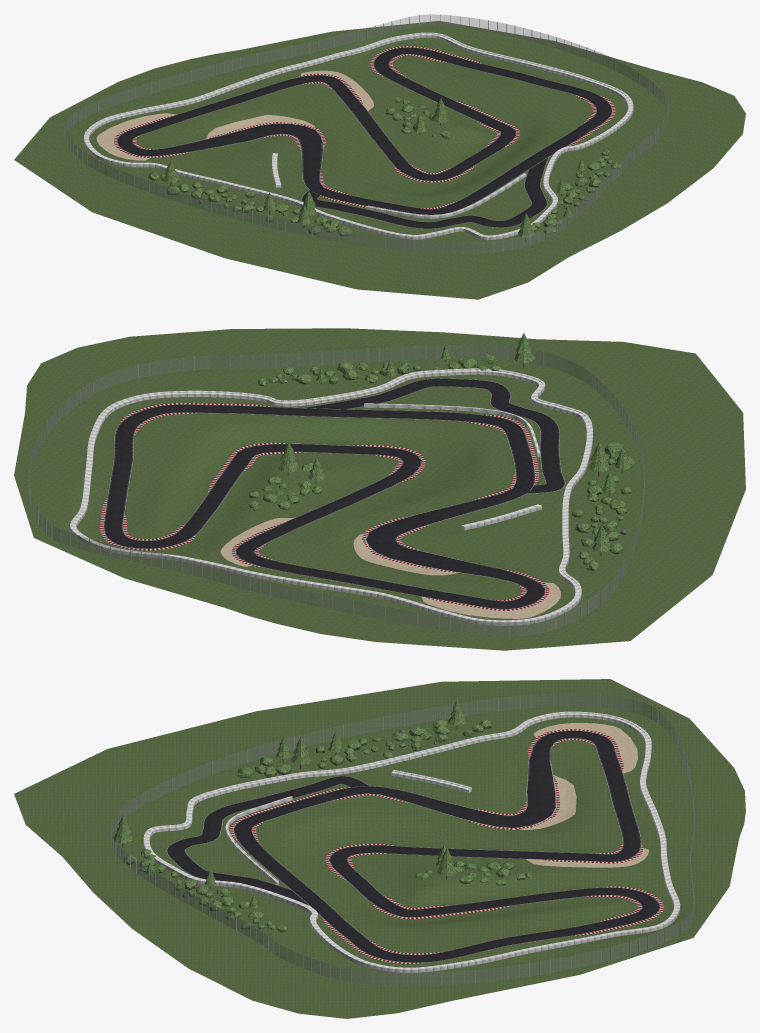
Rendered from kartbaan-oldenzaal.glb.
The picture shows the model from 3 angles, top to bottom: view 1: azimuth 30°, elevation 25°; view 2: azimuth 150°, elevation 25°; view 3: azimuth 270°, elevation 25°; orthographic projection. The views are drawn at different scales.
Visible parts, largest first — view 1: Grass_mesh, Road_mesh, Fence_mesh, SafeBarrier.001_mesh, Foliage_mesh, Curbstones_mesh, GravelTrap_mesh, SafeBarrier_mesh; view 2: Grass_mesh, Road_mesh, Fence_mesh, SafeBarrier.001_mesh, Foliage_mesh, Curbstones_mesh, GravelTrap_mesh, SafeBarrier_mesh; view 3: Grass_mesh, Road_mesh, Fence_mesh, SafeBarrier.001_mesh, Foliage_mesh, Curbstones_mesh, GravelTrap_mesh, SafeBarrier_mesh.
Part boxes in pixels (x1,y1,x2,y2): Grass_mesh: (14, 21, 745, 299); Road_mesh: (117, 47, 612, 228); Fence_mesh: (64, 14, 668, 253); SafeBarrier.001_mesh: (84, 32, 633, 240); Foliage_mesh: (148, 97, 621, 241); Curbstones_mesh: (114, 46, 615, 208); GravelTrap_mesh: (96, 70, 373, 160); SafeBarrier_mesh: (366, 173, 526, 218); Grass_mesh: (14, 328, 745, 650); Road_mesh: (103, 378, 565, 609); Fence_mesh: (28, 344, 644, 636); SafeBarrier.001_mesh: (70, 368, 592, 625); Foliage_mesh: (248, 333, 635, 570); Curbstones_mesh: (99, 403, 549, 610); GravelTrap_mesh: (220, 518, 560, 618); SafeBarrier_mesh: (364, 403, 540, 456); Grass_mesh: (14, 679, 745, 1018); Road_mesh: (166, 730, 660, 962); Fence_mesh: (110, 693, 694, 986); SafeBarrier.001_mesh: (143, 711, 680, 972); Foliage_mesh: (113, 699, 532, 932); Curbstones_mesh: (229, 729, 663, 963); GravelTrap_mesh: (520, 723, 648, 867); SafeBarrier_mesh: (225, 796, 292, 884).
Size of the model in its own units: 217 by 11.85 by 197.
Materials: 11 (8 with a texture image).
